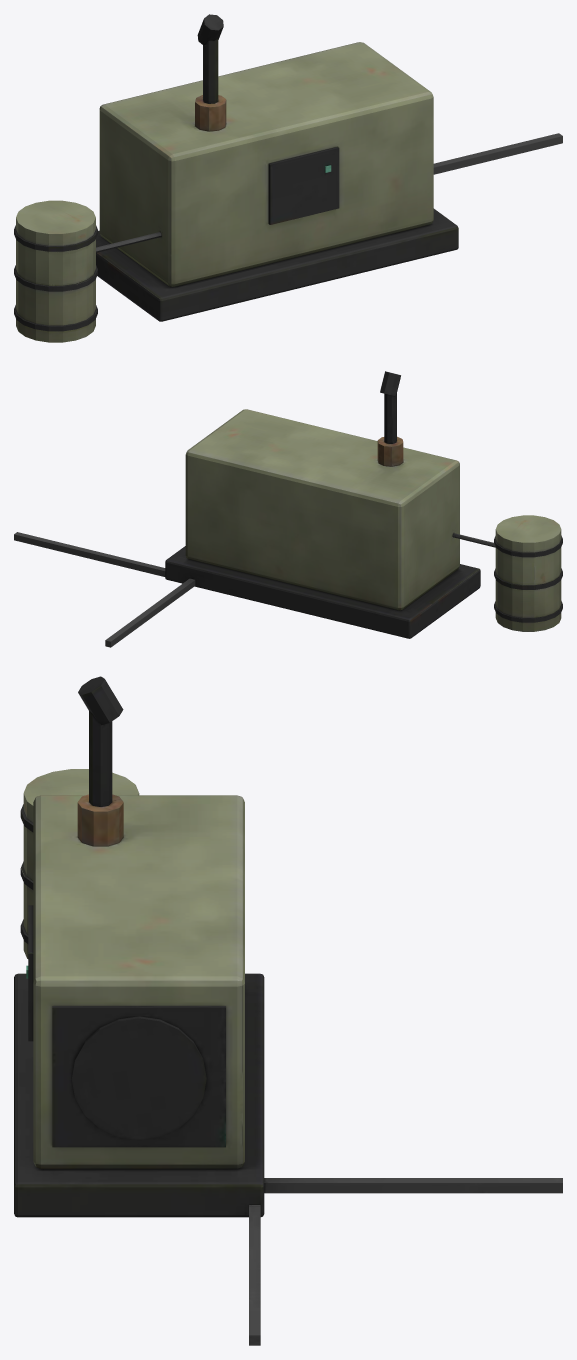
Rendered from d_generator.glb.
3 renders of one model, top to bottom at view 1: azimuth 30°, elevation 25°; view 2: azimuth 150°, elevation 25°; view 3: azimuth 270°, elevation 25°, orthographic. The views are drawn at different scales.
Parts seen in each view (by area): view 1: BldN_Shell, BldN_Interior; view 2: BldN_Shell, BldN_Interior; view 3: BldN_Shell, BldN_Interior.
Part boxes in pixels (<box>): BldN_Shell: <box>96,14,562,321</box>; BldN_Interior: <box>14,200,97,342</box>; BldN_Shell: <box>14,371,495,647</box>; BldN_Interior: <box>494,515,562,631</box>; BldN_Shell: <box>14,676,562,1345</box>; BldN_Interior: <box>20,769,139,958</box>.
Size of the model in its own units: 5.21 by 2.21 by 2.85.
Materials: 2 (2 with a texture image).
